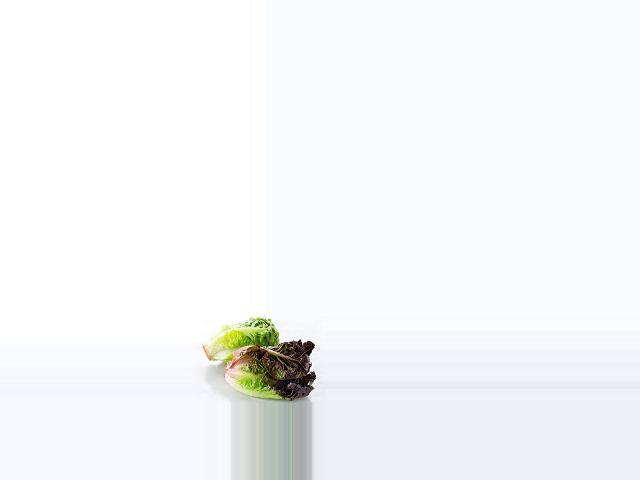lettuce: (199, 316, 280, 363)
